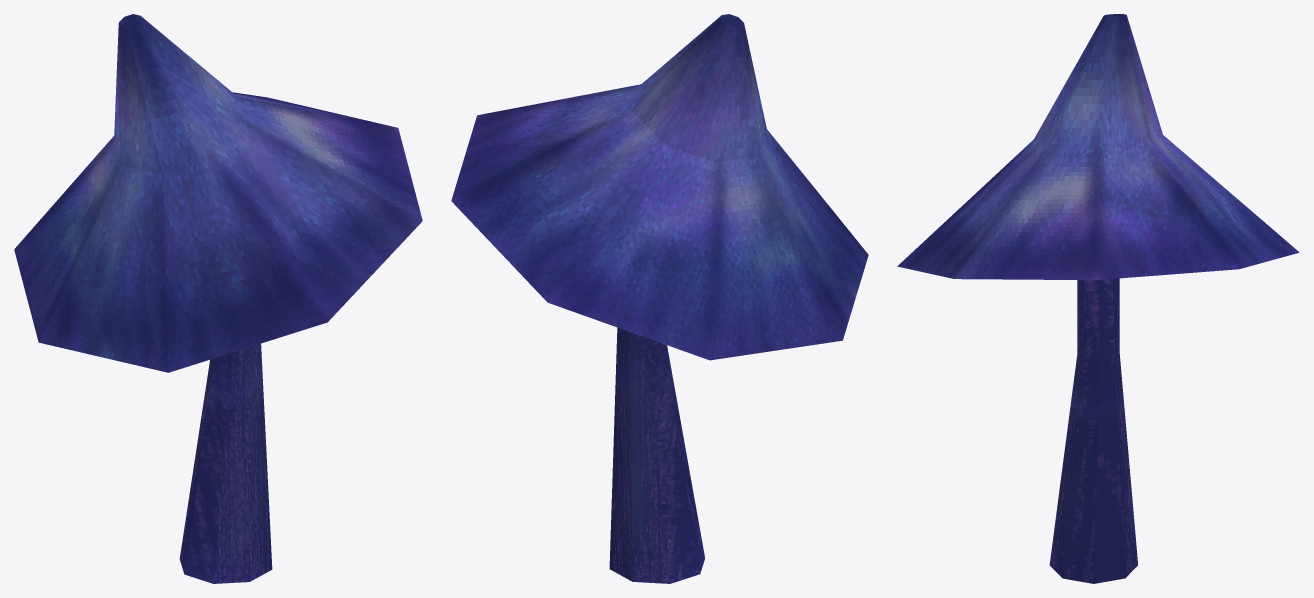
Rendered from PointyMushroom.glb.
3 renders of one model, left to right at view 1: azimuth 30°, elevation 25°; view 2: azimuth 150°, elevation 25°; view 3: azimuth 270°, elevation 25°, orthographic. The views are drawn at different scales.
Parts seen in each view (by area): view 1: Cylinder; view 2: Cylinder; view 3: Cylinder.
Boxes of the visible parts, x1,y1,x2,y2 form: Cylinder: (14, 14, 422, 583); Cylinder: (451, 14, 868, 583); Cylinder: (897, 14, 1299, 583).
Size of the model in its own units: 9.21 by 13.76 by 9.74.
1 material, 1 textured.
